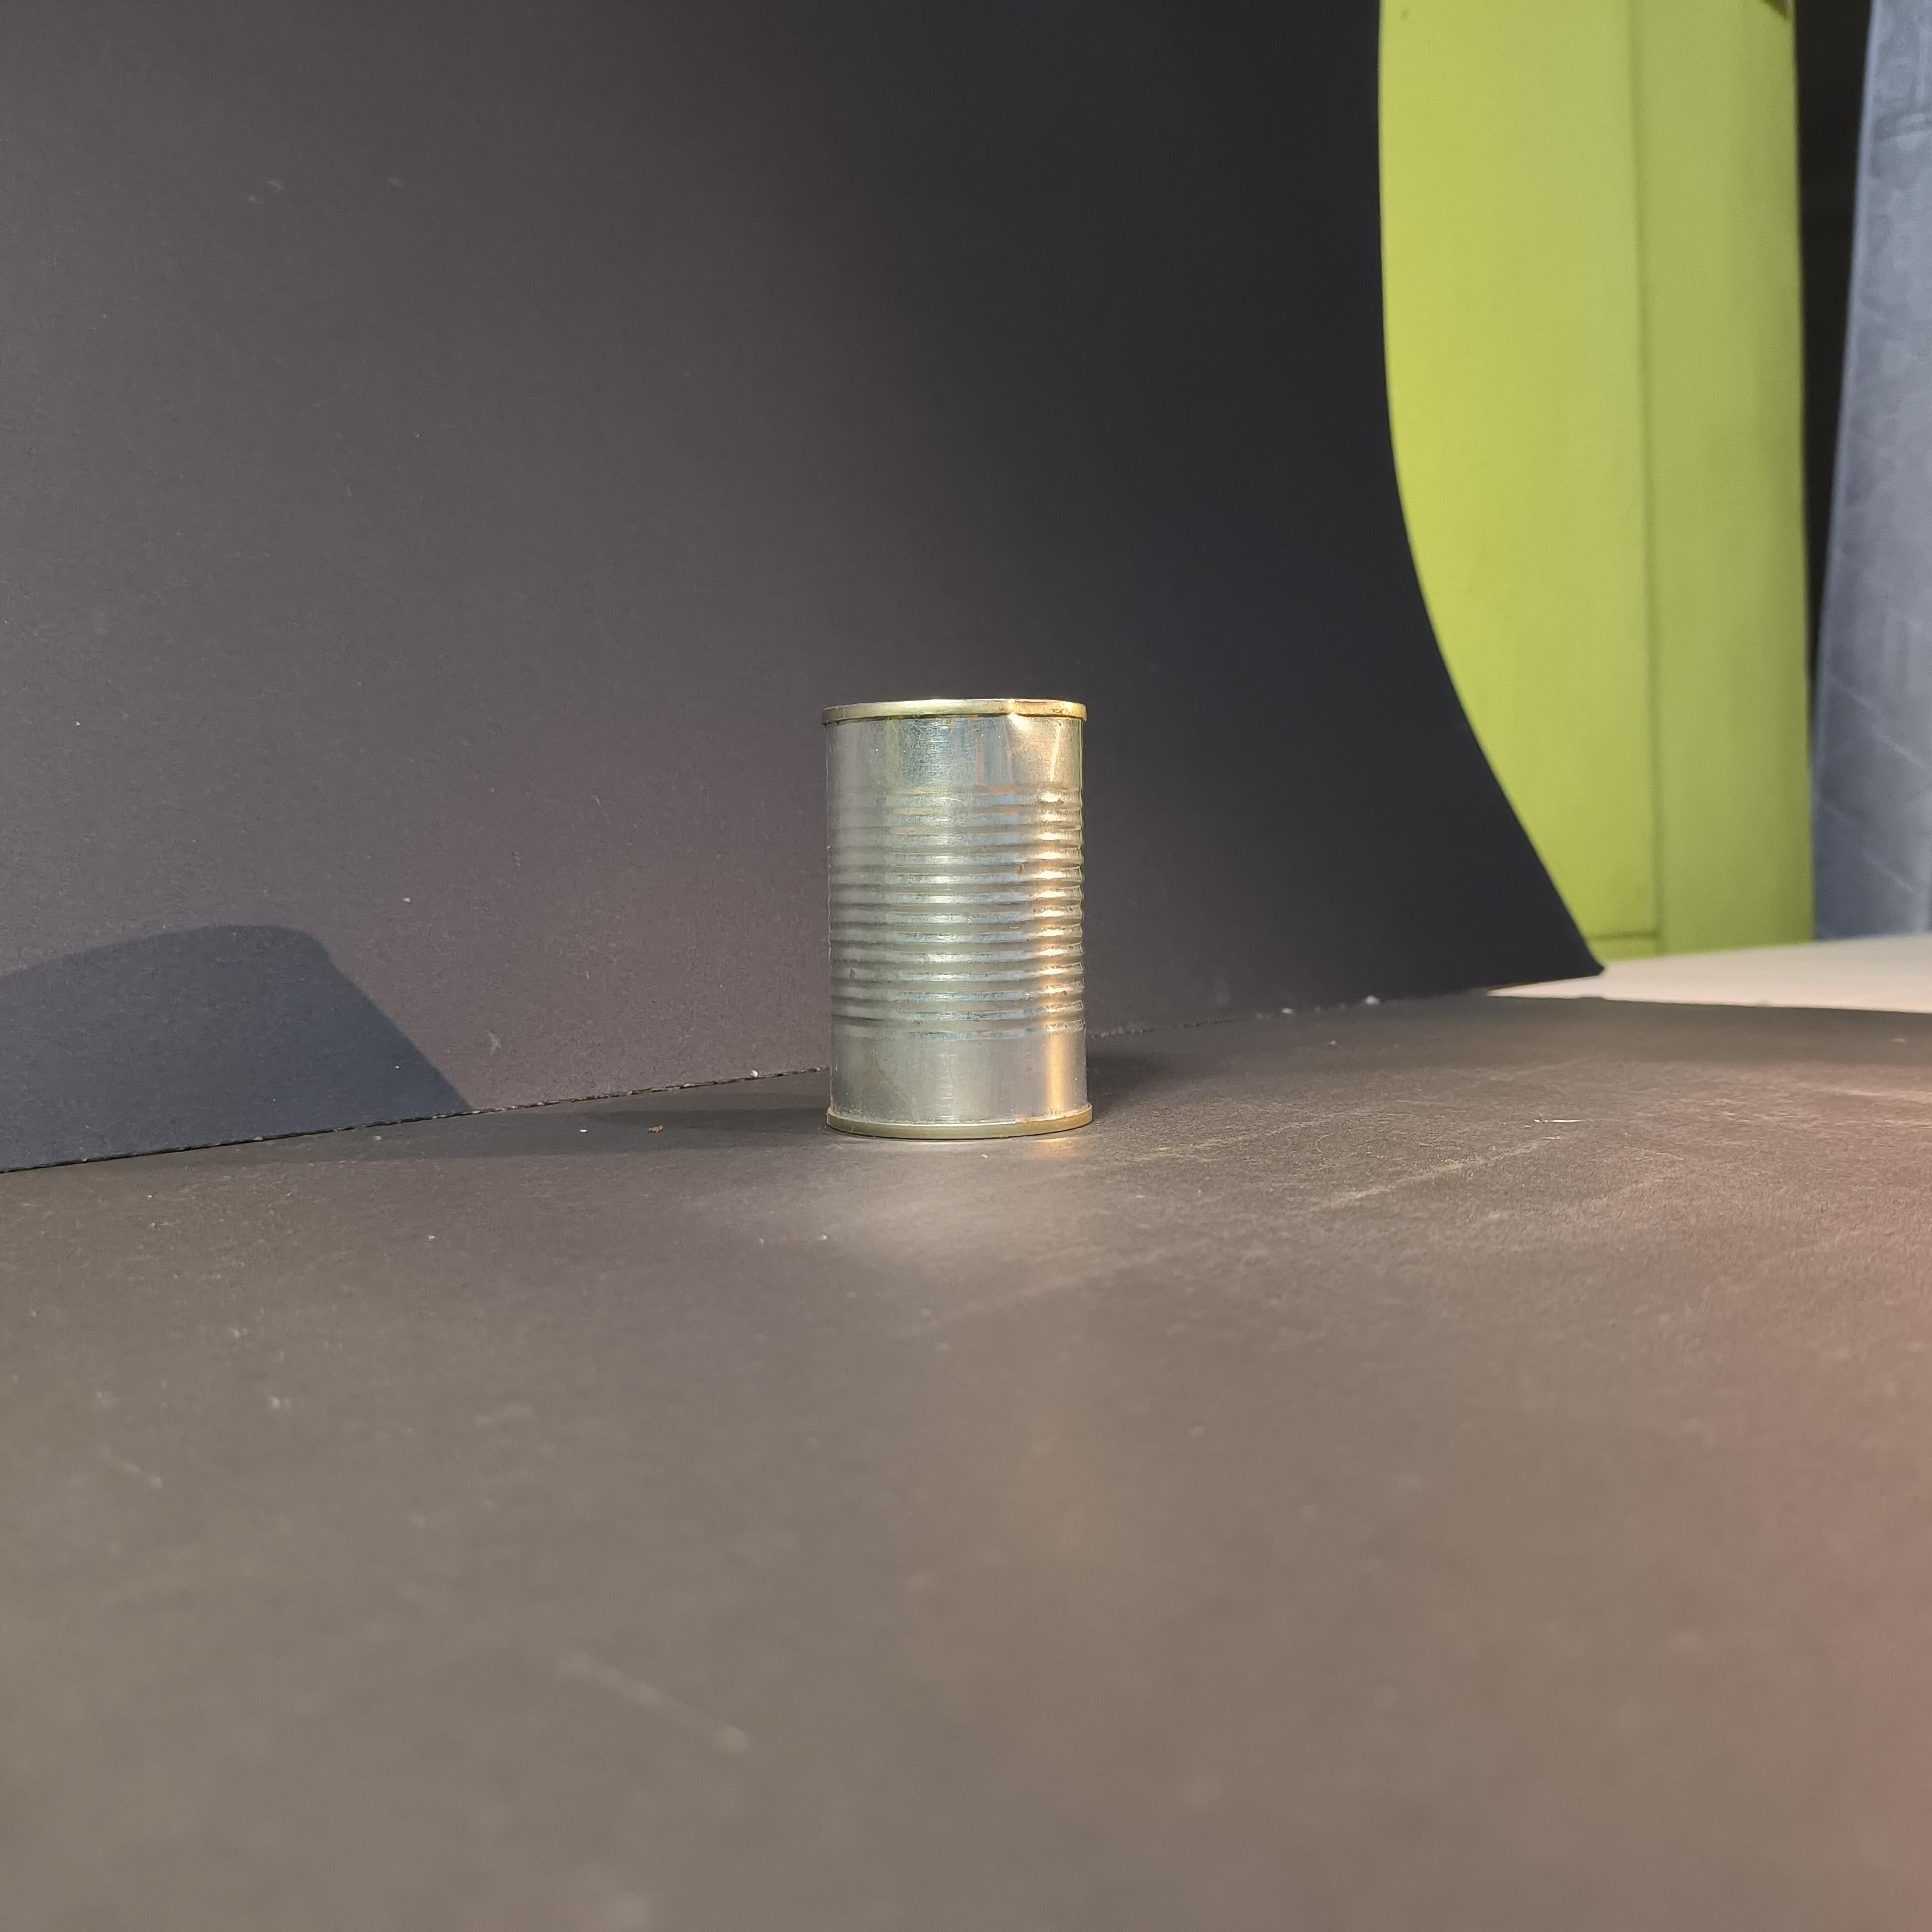Dented: (807, 676, 1129, 1166)
